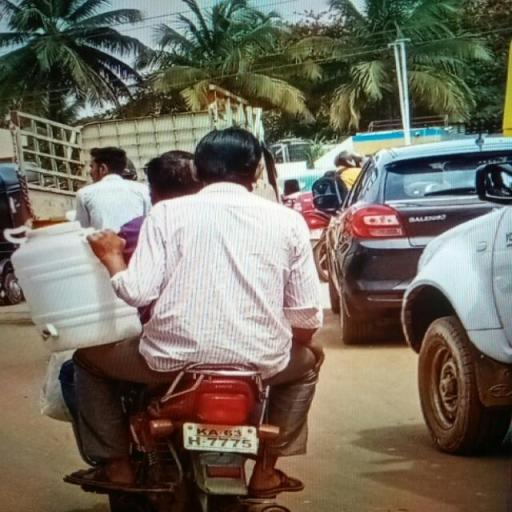bike: (45, 127, 347, 512)
numberplate: (182, 424, 260, 454)
withouthelmet: (198, 131, 262, 184), (148, 153, 190, 199)
